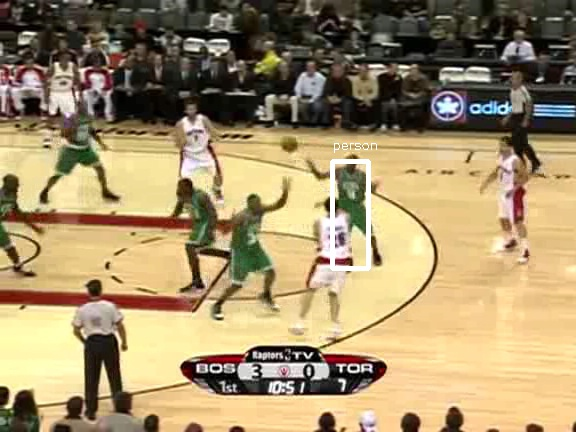person: (335, 160, 369, 241), (334, 160, 368, 241), (336, 160, 370, 241), (335, 159, 369, 240), (335, 161, 369, 242)
target_negative: (362, 379, 460, 432), (472, 369, 520, 388), (518, 358, 571, 370), (455, 273, 462, 354), (519, 346, 537, 369)
